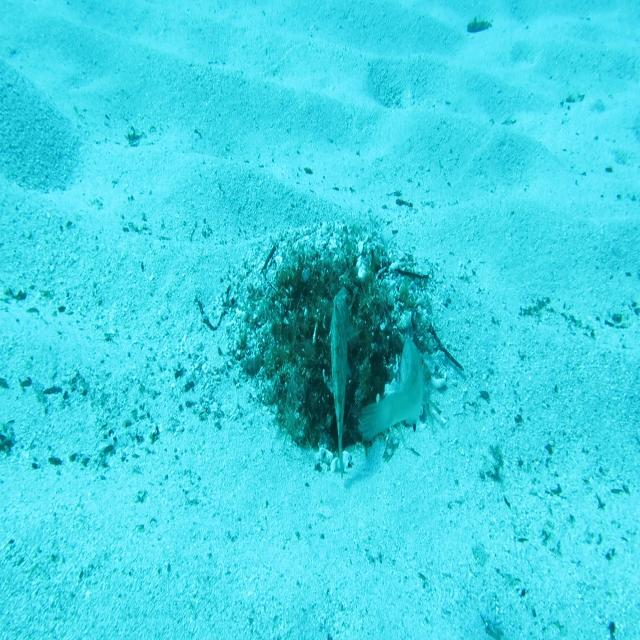FAN: (324, 282, 352, 480)
core_nest: (306, 276, 359, 312)
female: (358, 332, 424, 442)
nest: (221, 211, 452, 484)
vegetation: (466, 15, 494, 38)
